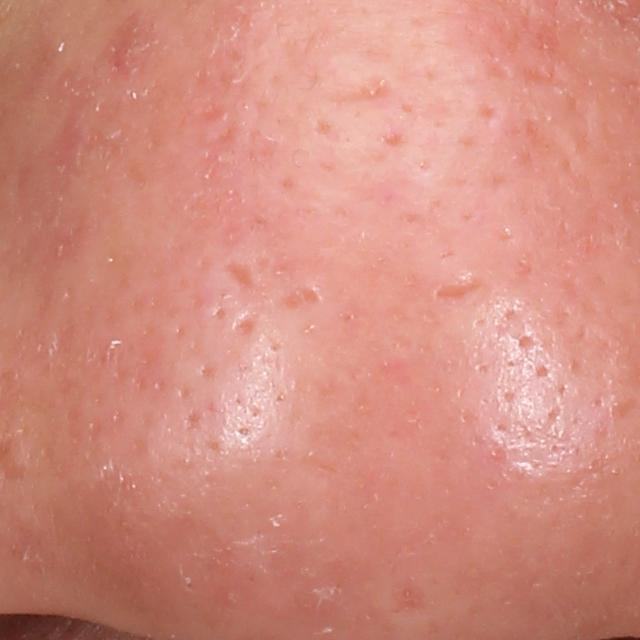atrophic_scar: (328, 74, 395, 110), (428, 268, 491, 305), (222, 259, 259, 292), (280, 283, 318, 313)
